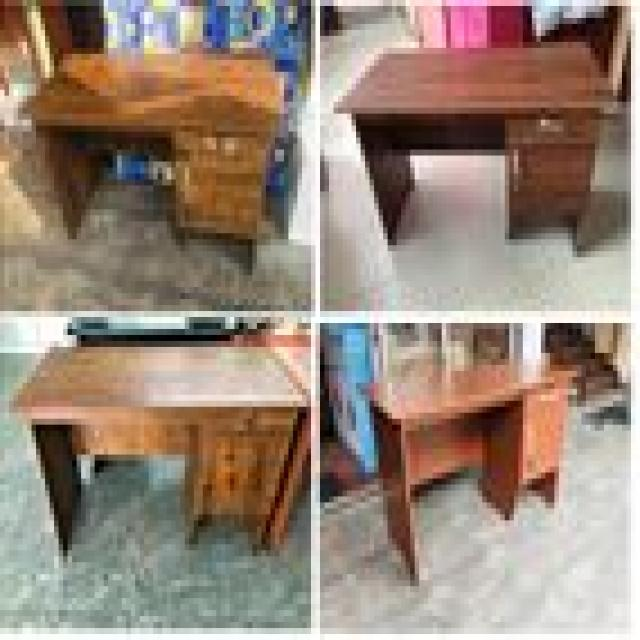others: (4, 6, 631, 634)
